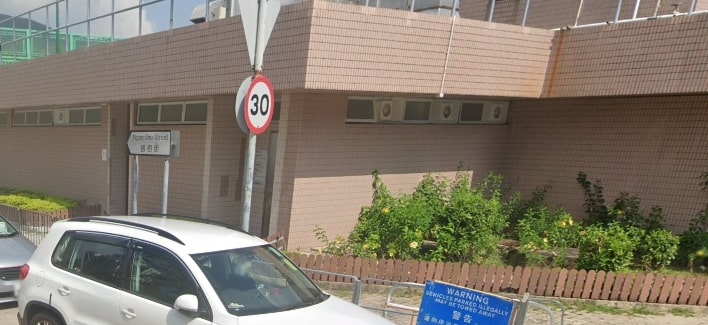Speed Limit: (246, 78, 276, 131)
